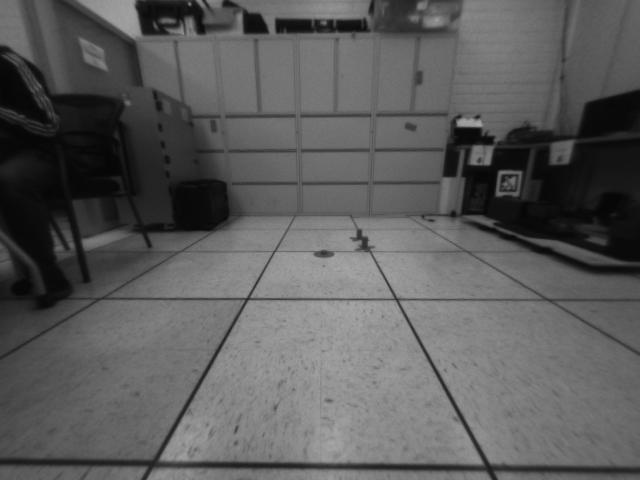X: (355, 237, 375, 252), (351, 229, 366, 240)
